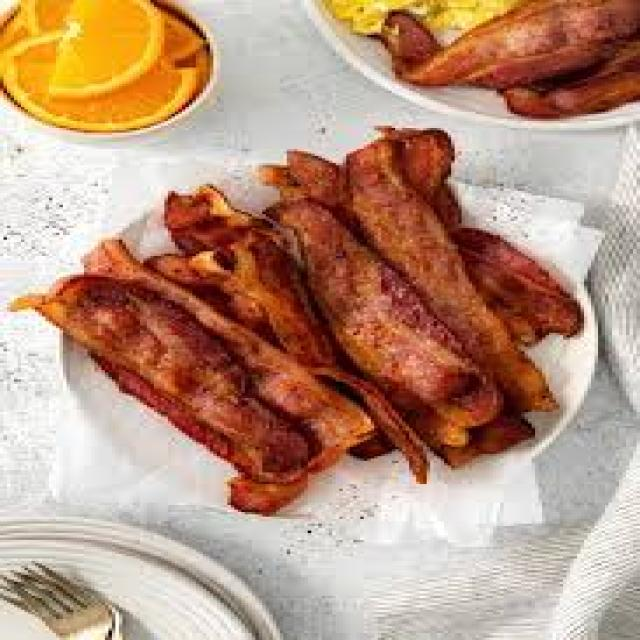Bacon: (18, 275, 368, 513), (267, 199, 503, 446), (346, 139, 558, 411), (148, 185, 334, 366)
